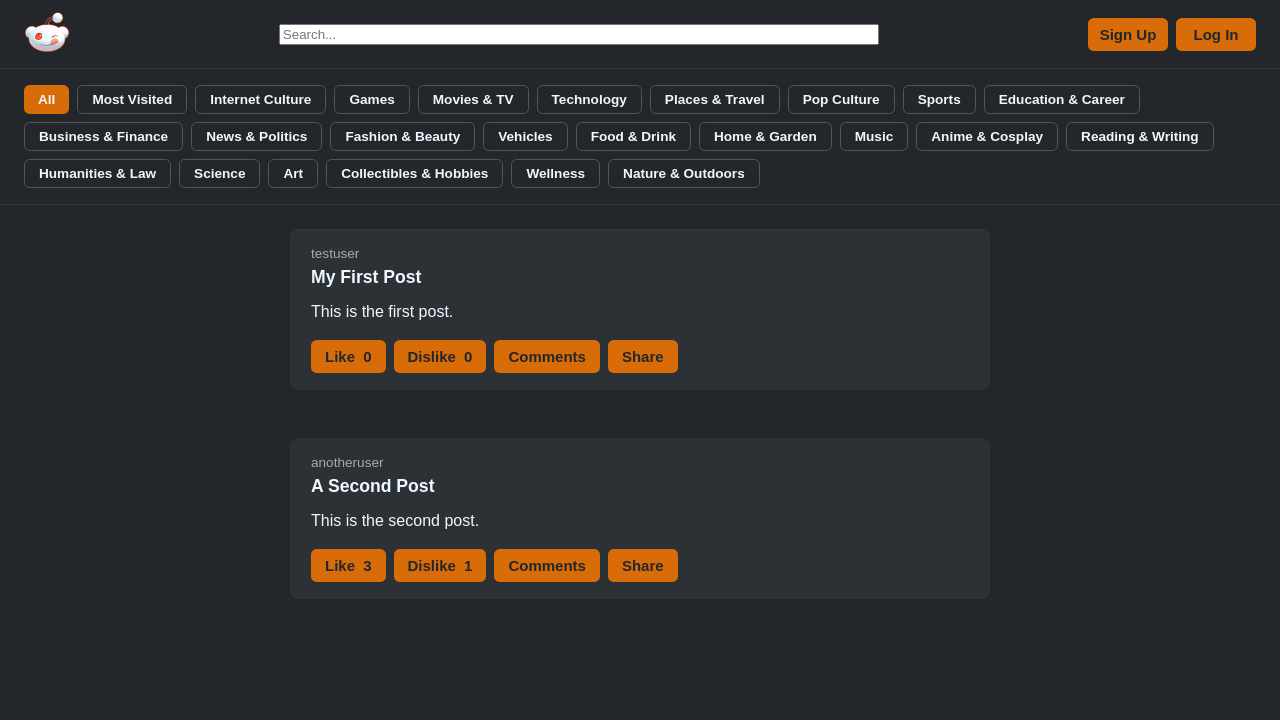
Test: typing in the search bar filters the posts in the feed
Check: the text "My First Post" is shown, box [311,267,422,287]
Check: the text "A Second Post" is shown, box [311,476,434,496]
Type "second" into the field labelled "Search..." at (579, 34), box [279,24,879,44]
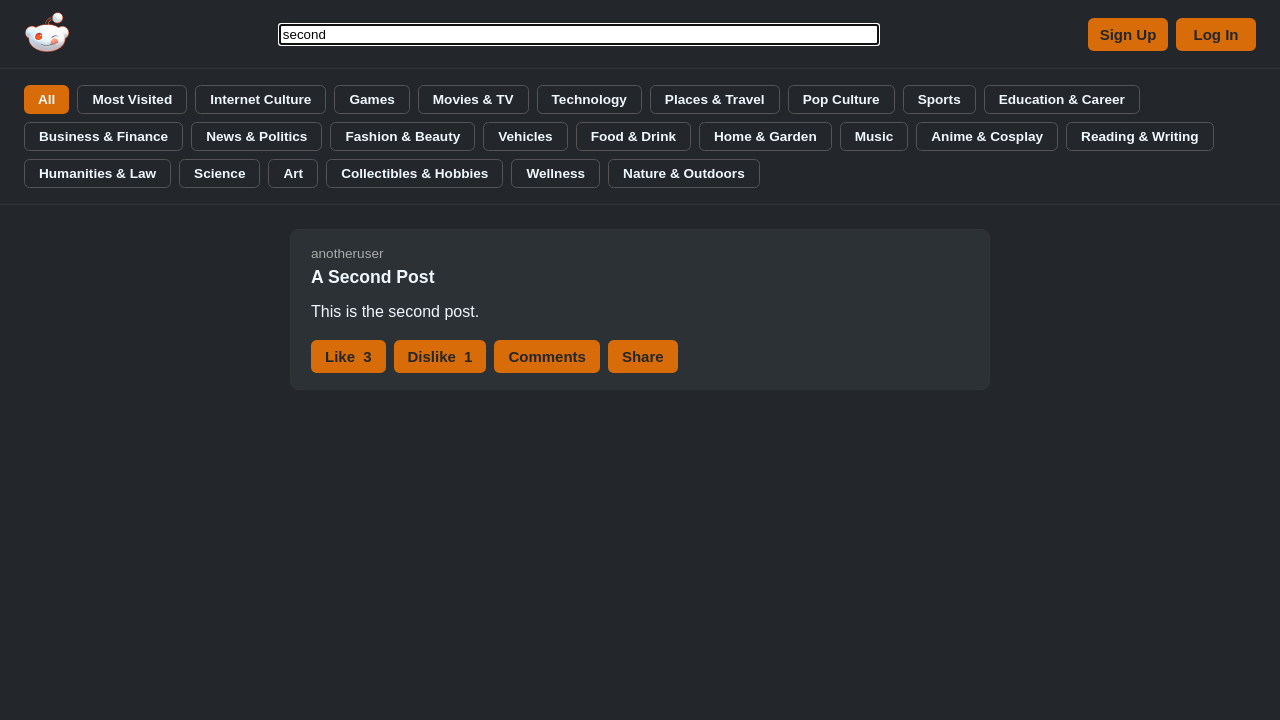
Check: the text "A Second Post" is shown, box [311,267,434,287]
Check: the text "My First Post" is gone
